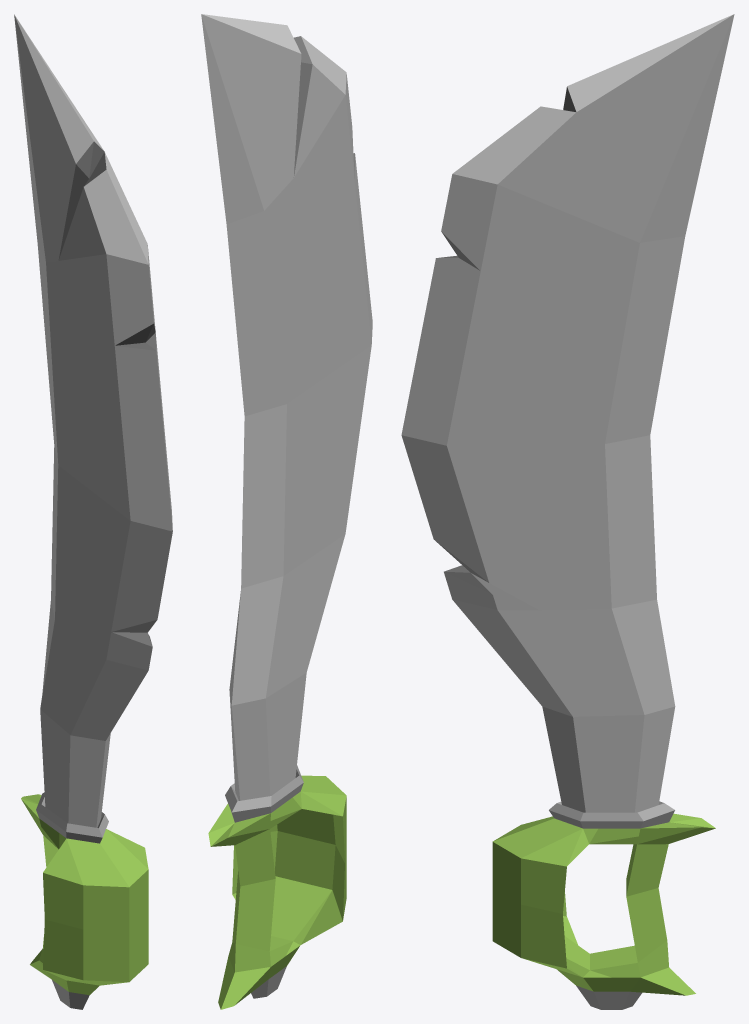
Rendered from PiratSable.fbx.
3 views of the same model, side by side, from view 1: azimuth 30°, elevation 25°; view 2: azimuth 150°, elevation 25°; view 3: azimuth 270°, elevation 25° (orthographic). The views are drawn at different scales.
Visible parts, largest first — view 1: PiratSable; view 2: PiratSable; view 3: PiratSable.
Part boxes in pixels (<box>): PiratSable: <box>14,14,172,1009</box>; PiratSable: <box>201,14,372,1009</box>; PiratSable: <box>401,14,734,1009</box>.
Bounding box in the file's own units: 10.32 × 91.22 × 27.75.
Materials: 1 (1 with a texture image).
